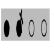correct: (3, 17, 11, 41)
no answer: (28, 15, 35, 40), (40, 16, 47, 39)
not correct: (15, 8, 24, 40)
